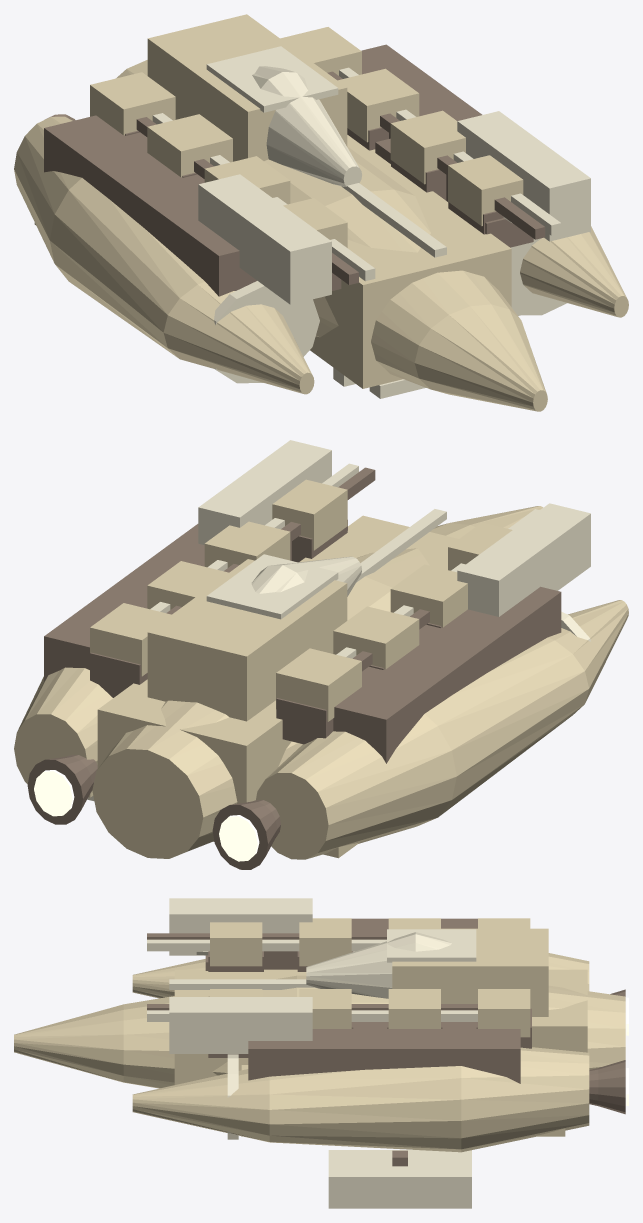
The picture shows the model from 3 angles, top to bottom: view 1: azimuth 30°, elevation 25°; view 2: azimuth 150°, elevation 25°; view 3: azimuth 270°, elevation 25°; orthographic projection. The views are drawn at different scales.
Size of the model in its own units: 13.81 by 7.61 by 22.03.
